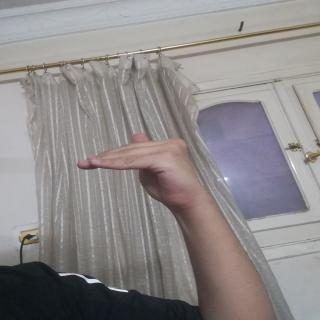KHAA: (74, 129, 218, 211)
